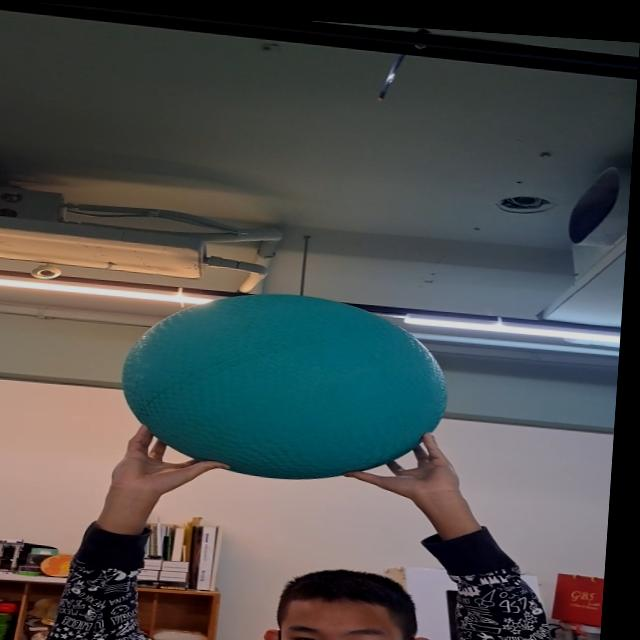ALGAE: (116, 284, 454, 492)
